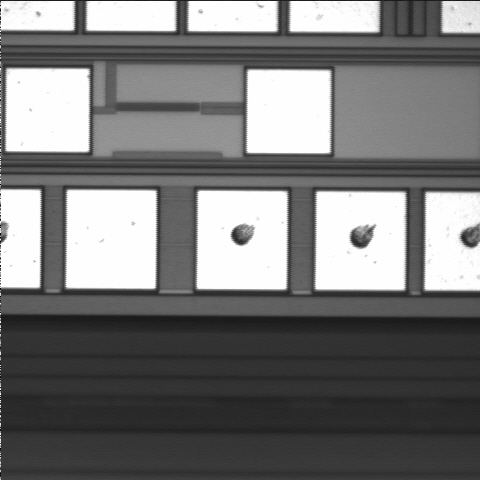pad: (66, 190, 156, 289), (197, 191, 287, 289), (316, 192, 405, 290), (247, 70, 331, 153), (6, 69, 89, 152)
